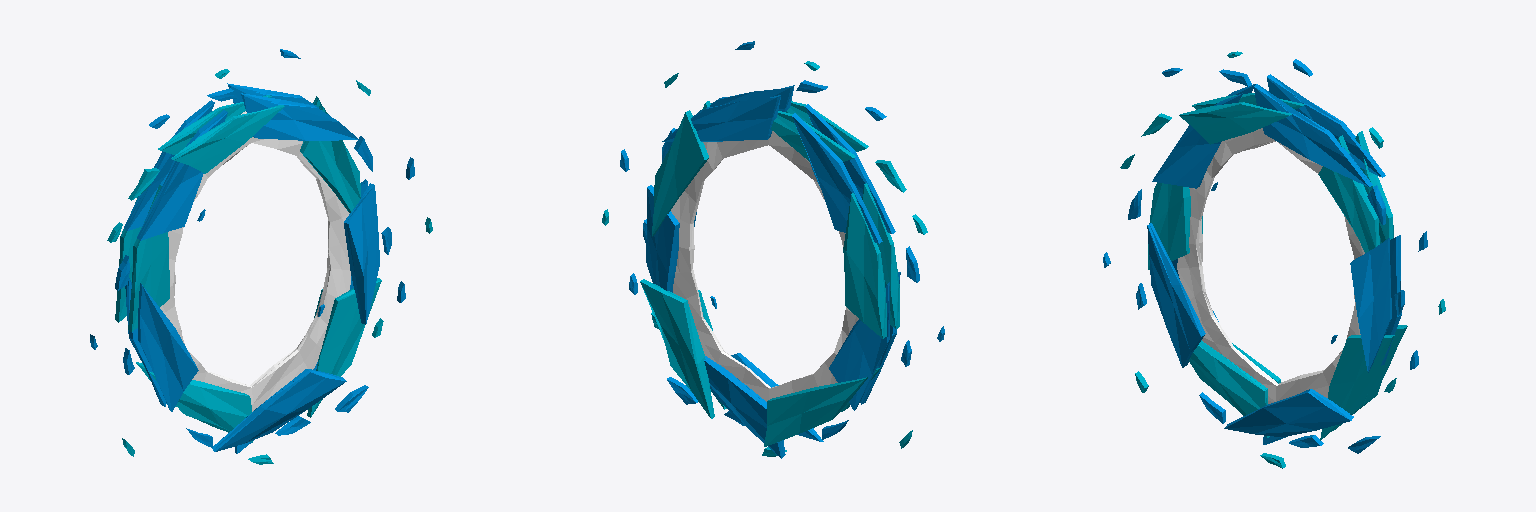
The model's file is Portal_01.obj.
The picture shows the model from 3 angles: view 1: azimuth 30°, elevation 25°; view 2: azimuth 150°, elevation 25°; view 3: azimuth 330°, elevation 25°; orthographic projection.
Visible parts, largest first — view 1: portel_Plane.005; view 2: portel_Plane.005; view 3: portel_Plane.005.
Part boxes in pixels (x1,y1,x2,y2): portel_Plane.005: (90,49,432,464); portel_Plane.005: (602,41,944,458); portel_Plane.005: (1103,51,1445,468).
Size of the model in its own units: 13.72 by 15.81 by 2.06.